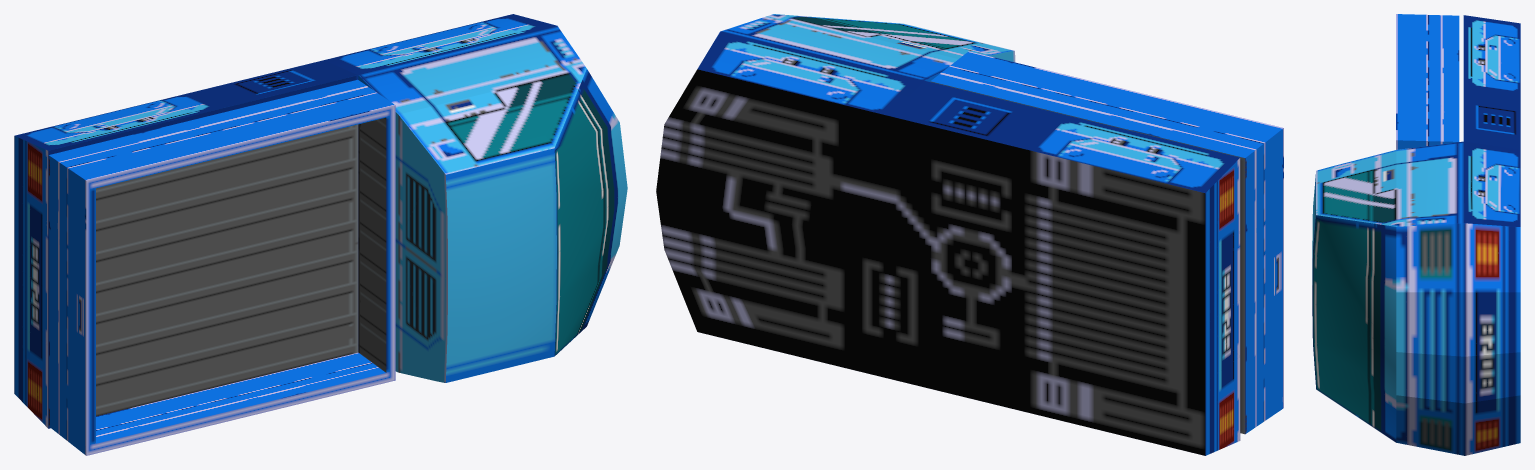
Rendered from truck.obj.
3 renders of one model, left to right at view 1: azimuth 30°, elevation 25°; view 2: azimuth 150°, elevation 25°; view 3: azimuth 270°, elevation 25°, orthographic. The views are drawn at different scales.
Visible parts, largest first — view 1: truck_bed, truck; view 2: truck, truck_bed; view 3: truck, truck_bed.
Part boxes in pixels (x1=…): truck_bed: x1=48, y1=79, x2=395, y2=455; truck: x1=14, y1=14, x2=627, y2=428; truck: x1=656, y1=14, x2=1240, y2=455; truck_bed: x1=930, y1=51, x2=1283, y2=434; truck: x1=1312, y1=15, x2=1520, y2=455; truck_bed: x1=1396, y1=14, x2=1459, y2=149.
Bounding box in the file's own units: 56.71 × 27.28 × 22.13.
